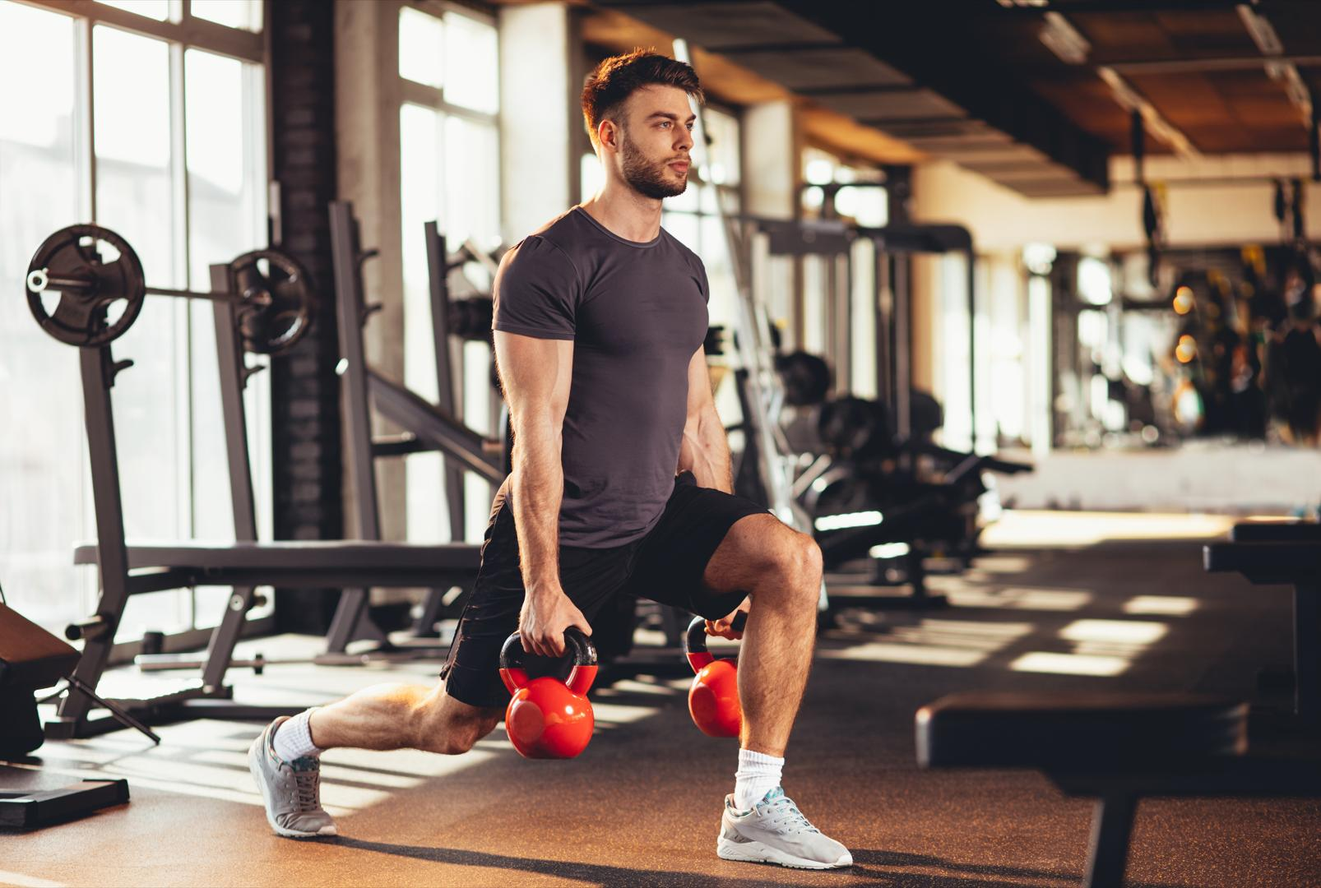Shorts: (439, 476, 771, 713)
short sleeve shirt: (487, 203, 712, 546)
